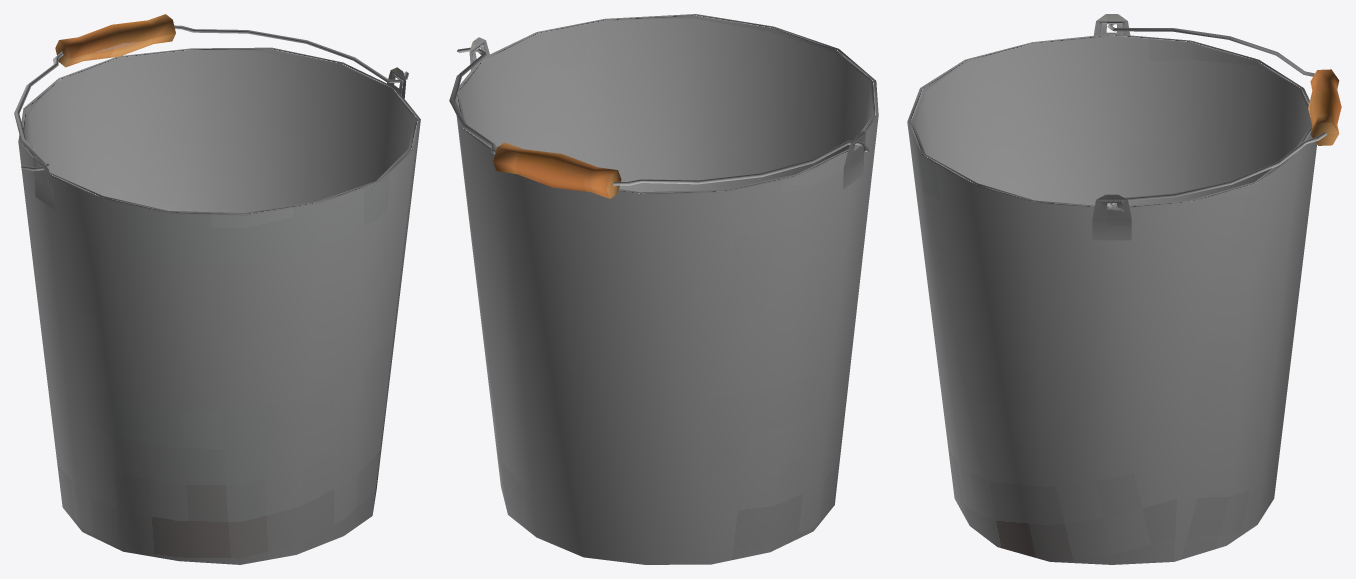
File: objects_un_t01bucket01_metal.gltf
3 renders of one model, left to right at view 1: azimuth 30°, elevation 25°; view 2: azimuth 150°, elevation 25°; view 3: azimuth 270°, elevation 25°, orthographic. The views are drawn at different scales.
Visible parts, largest first — view 1: objects_un_t01bucket02_plate_lod0_shape:objects_un_t01bucket; view 2: objects_un_t01bucket02_plate_lod0_shape:objects_un_t01bucket; view 3: objects_un_t01bucket02_plate_lod0_shape:objects_un_t01bucket.
Part boxes in pixels (x1,y1,x2,y2): objects_un_t01bucket02_plate_lod0_shape:objects_un_t01bucket: (14, 14, 420, 564); objects_un_t01bucket02_plate_lod0_shape:objects_un_t01bucket: (449, 14, 878, 564); objects_un_t01bucket02_plate_lod0_shape:objects_un_t01bucket: (907, 14, 1341, 564).
Size of what is drawn, in the model's own units: 0.5061 by 0.4922 by 0.4791.
1 material, 1 textured.
